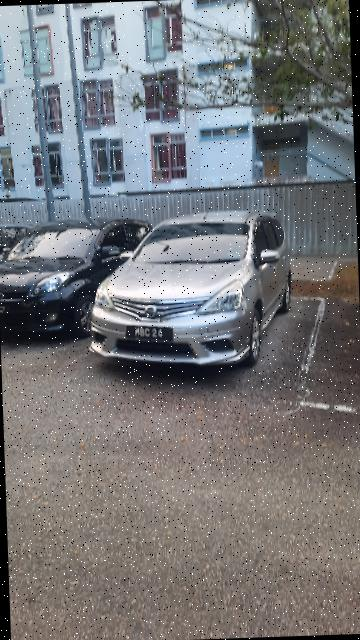License_Plate: (126, 323, 178, 350)
car: (86, 208, 301, 376)
